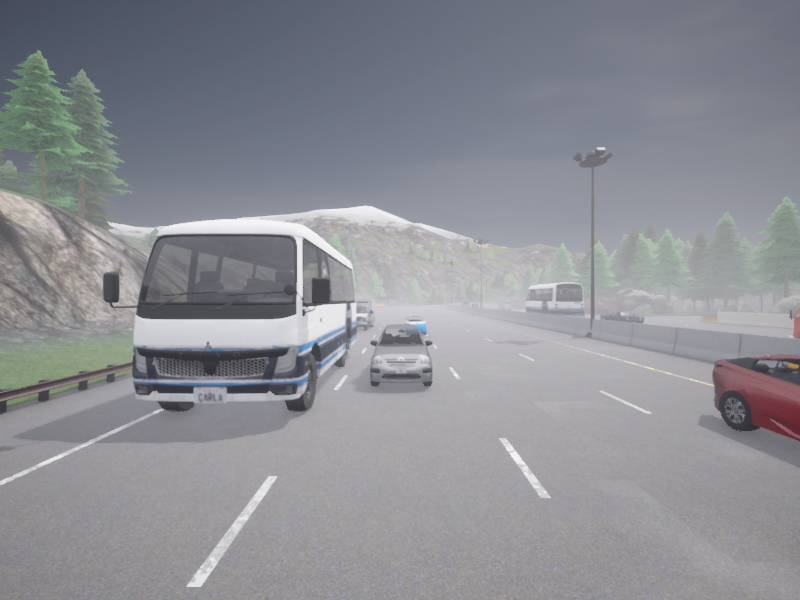vehicle: (103, 219, 356, 410), (712, 354, 799, 440), (370, 324, 431, 386), (522, 283, 583, 317), (356, 300, 374, 330), (600, 311, 643, 322), (405, 315, 426, 334), (789, 308, 799, 338), (497, 300, 512, 309), (461, 299, 468, 305), (472, 303, 478, 306)
